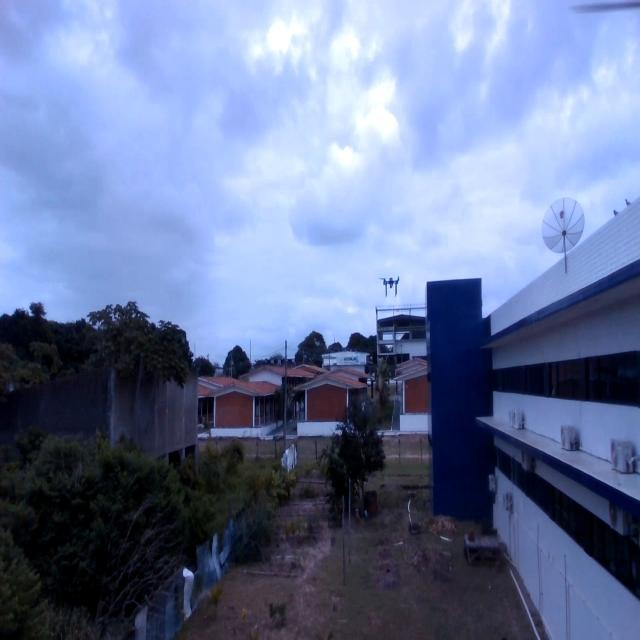-uav-: (375, 270, 406, 302)
